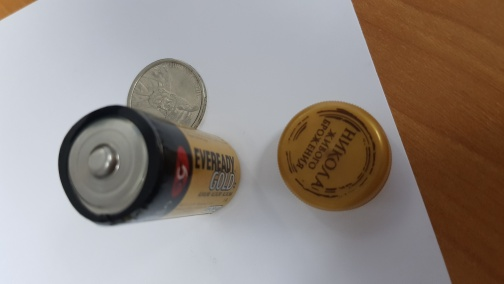coin: (126, 58, 208, 132)
